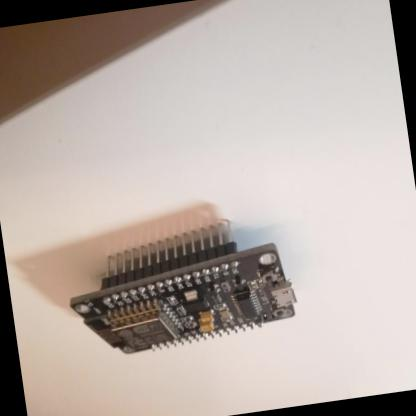ESP8266: (59, 207, 304, 370)
